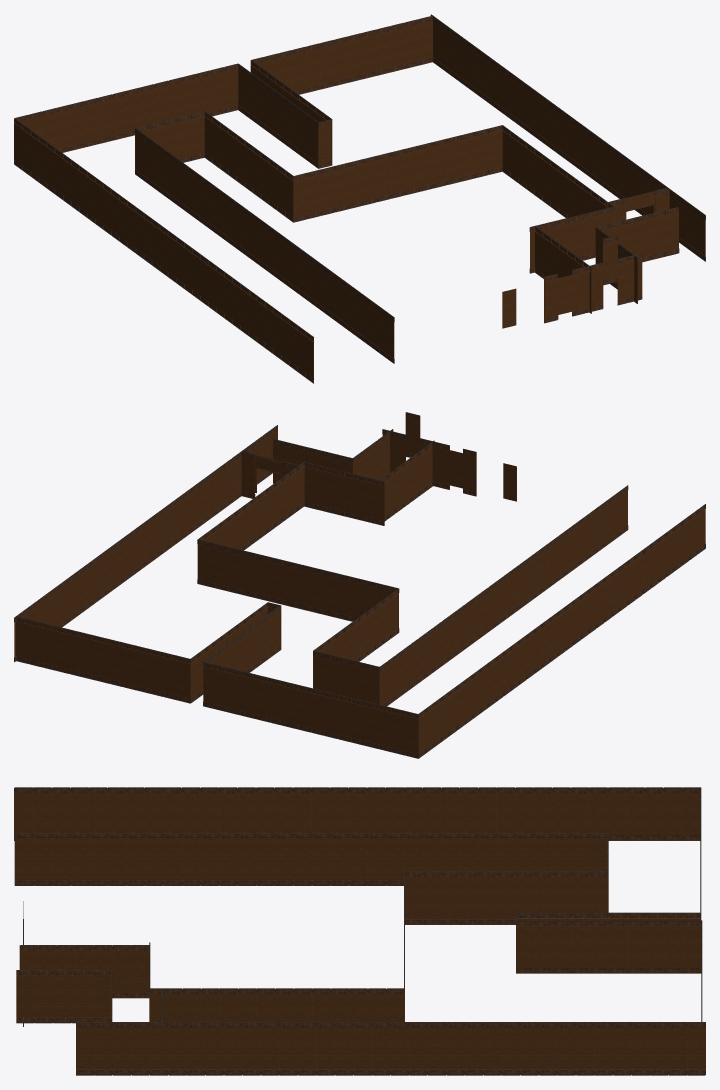
File: Wall01.fbx
The picture shows the model from 3 angles, top to bottom: view 1: azimuth 30°, elevation 25°; view 2: azimuth 150°, elevation 25°; view 3: azimuth 270°, elevation 25°; orthographic projection. The views are drawn at different scales.
Visible parts, largest first — view 1: Wall01; view 2: Wall01; view 3: Wall01.
Part boxes in pixels (x1=…): Wall01: x1=14, y1=14, x2=705, y2=383; Wall01: x1=14, y1=412, x2=705, y2=758; Wall01: x1=14, y1=787, x2=705, y2=1075.
Size of the model in its own units: 9000 by 1441 by 11202.
Materials: 1 (1 with a texture image).
